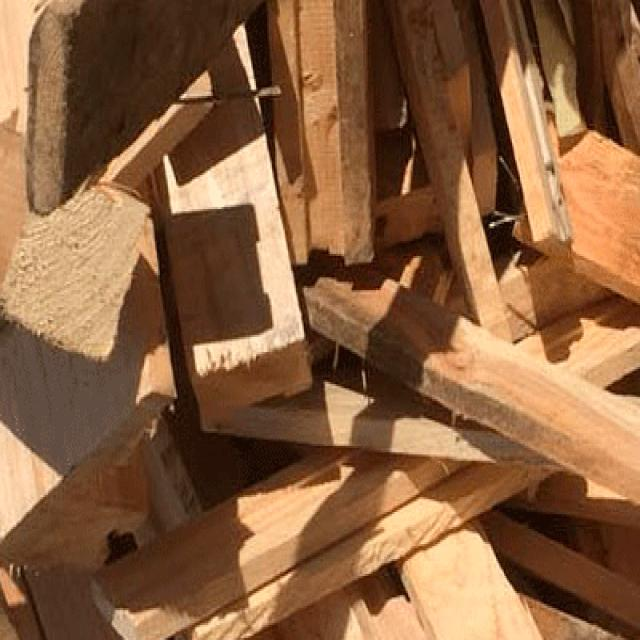green waste: (3, 7, 636, 636)
